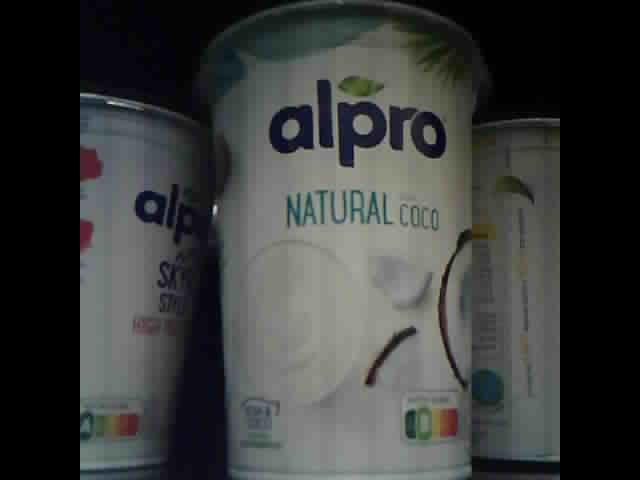alpro: (197, 1, 491, 480), (81, 81, 211, 474), (470, 117, 560, 462)
